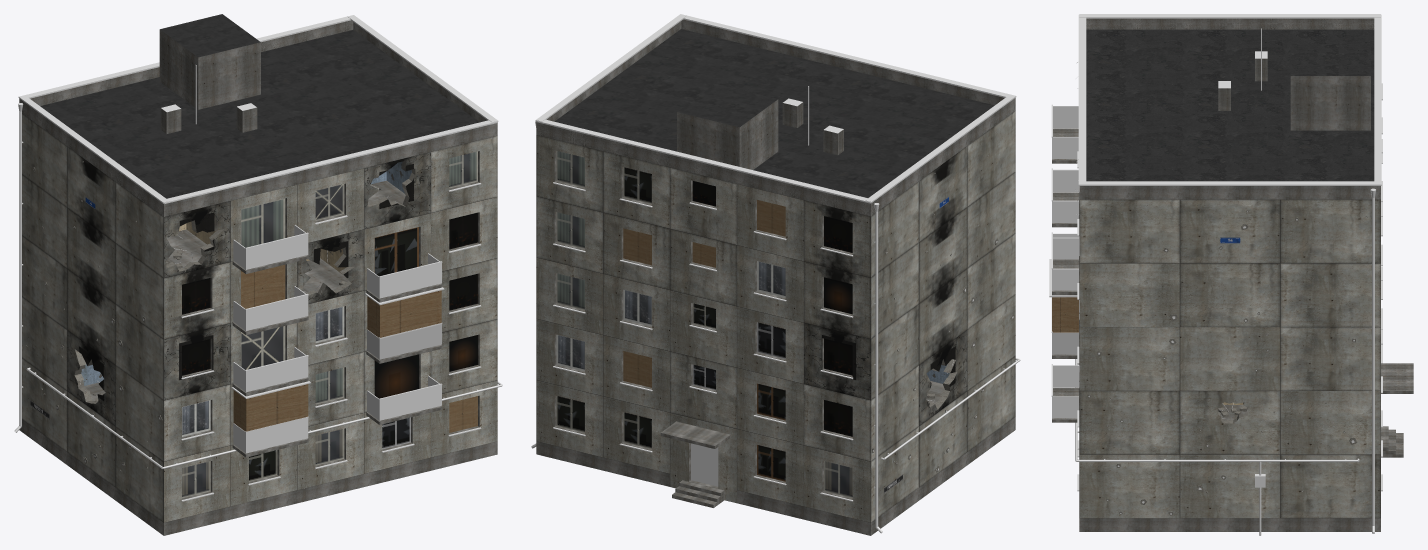
The model's file is S1U_KH_Holed.fbx.
The picture shows the model from 3 angles, left to right: view 1: azimuth 30°, elevation 25°; view 2: azimuth 150°, elevation 25°; view 3: azimuth 270°, elevation 25°; orthographic projection. The views are drawn at different scales.
Visible parts, largest first — view 1: S1U_KH_Holed; view 2: S1U_KH_Holed; view 3: S1U_KH_Holed.
Boxes of the visible parts, left/top/right/bottom form: S1U_KH_Holed: left=14, top=14, right=502, bottom=535; S1U_KH_Holed: left=531, top=14, right=1020, bottom=535; S1U_KH_Holed: left=1049, top=14, right=1413, bottom=535.
Size of the model in its own units: 16.79 by 17.4 by 14.5.
